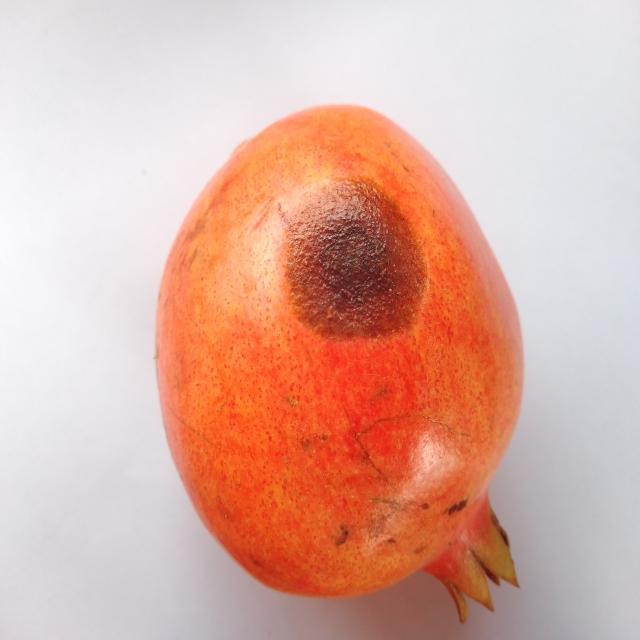Rotten: (152, 99, 530, 624)
